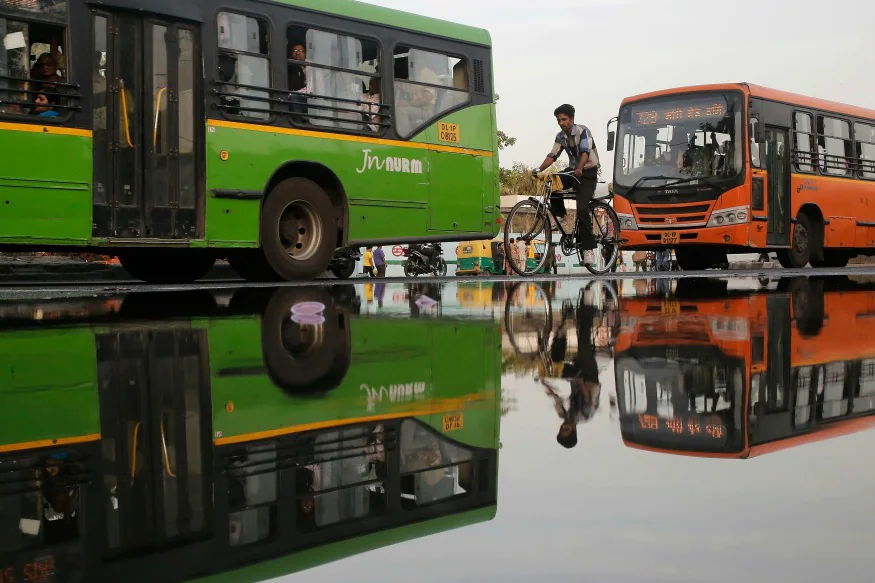bus: (1, 6, 496, 275), (602, 87, 875, 259)
